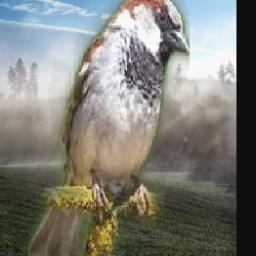Sparrow: (29, 0, 191, 256)
